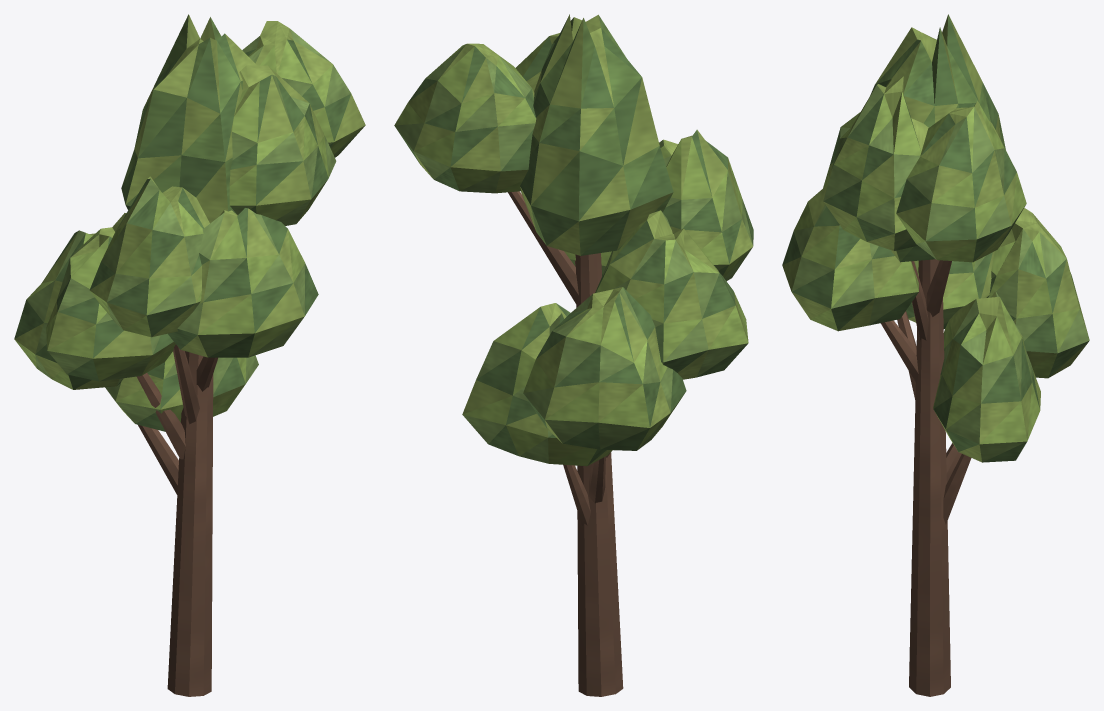
File: tree_oak_03.fbx
The picture shows the model from 3 angles, left to right: view 1: azimuth 30°, elevation 25°; view 2: azimuth 150°, elevation 25°; view 3: azimuth 270°, elevation 25°; orthographic projection.
Visible parts, largest first — view 1: tree_oak_03; view 2: tree_oak_03; view 3: tree_oak_03.
Boxes of the visible parts, x1,y1,x2,y2 form: tree_oak_03: (14,14,365,696); tree_oak_03: (394,14,753,696); tree_oak_03: (782,14,1089,696).
Size of the model in its own units: 691 by 1360 by 560.
Materials: 1 (1 with a texture image).
